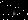person: (15, 8, 23, 18)
